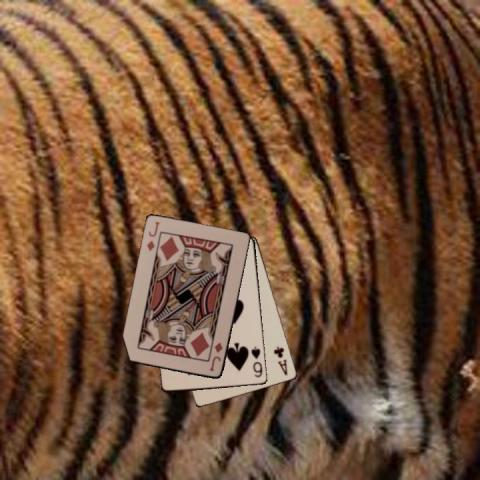6s: (249, 344, 264, 379)
Ac: (271, 343, 289, 377)
Jd: (207, 339, 224, 373), (144, 218, 161, 252)
